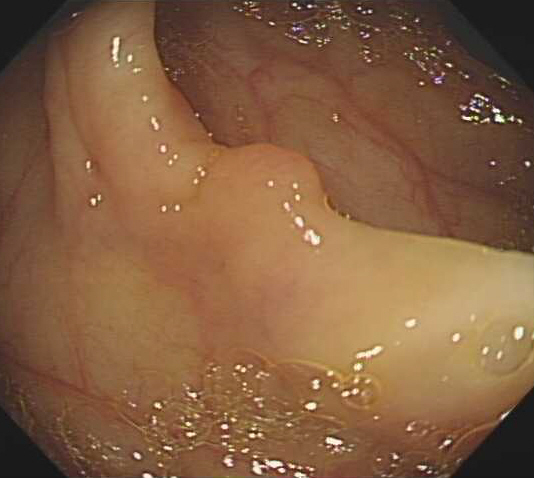adenoma: (197, 139, 331, 221)
